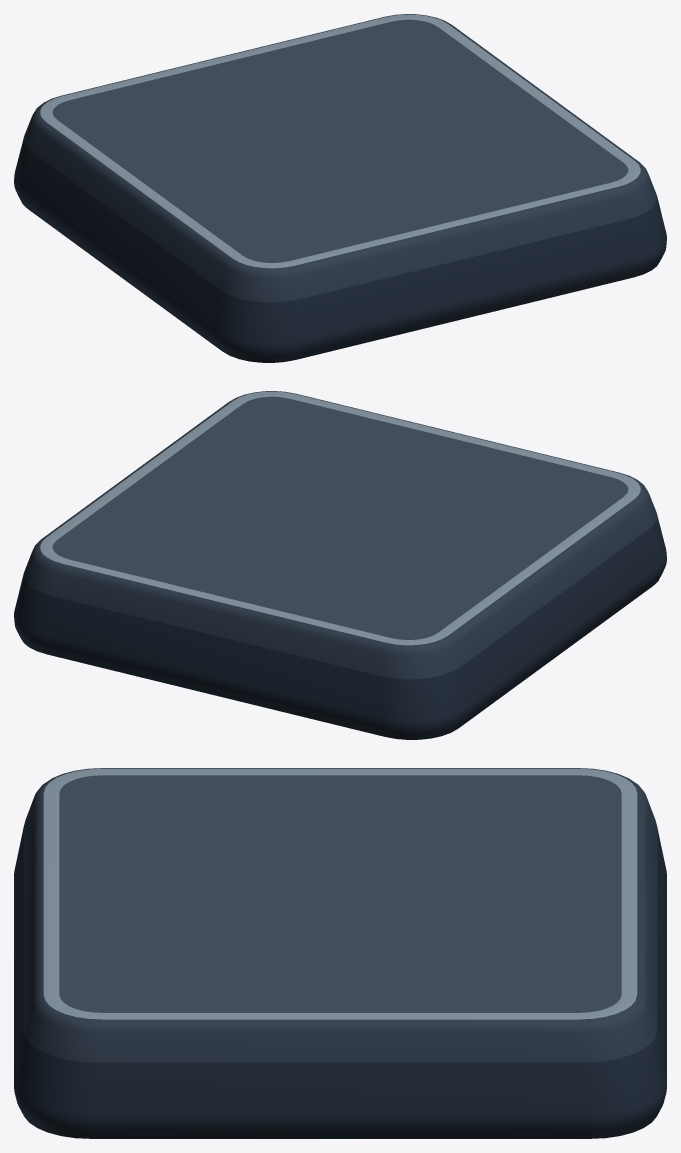
Rendered from Slot.fbx.
3 views of the same model, one above another, from view 1: azimuth 30°, elevation 25°; view 2: azimuth 150°, elevation 25°; view 3: azimuth 270°, elevation 25° (orthographic). The views are drawn at different scales.
Visible parts, largest first — view 1: Slot; view 2: Slot; view 3: Slot.
Boxes of the visible parts, x1,y1,x2,y2 form: Slot: (14, 14, 666, 362); Slot: (14, 391, 666, 739); Slot: (14, 768, 666, 1138).
Size of the model in its own units: 121 by 22.48 by 121.
1 material, 1 textured.
